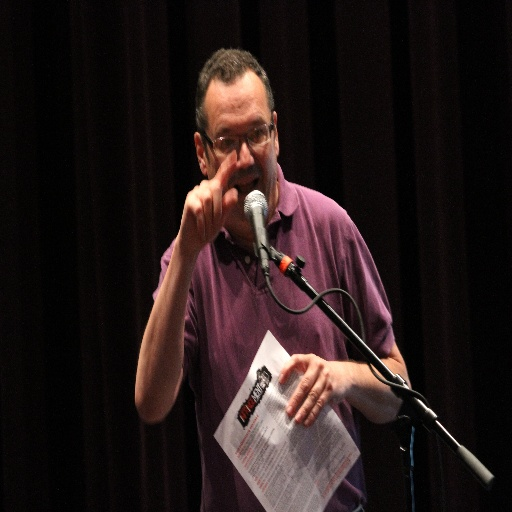hand: (271, 349, 380, 434), (178, 147, 239, 257)
